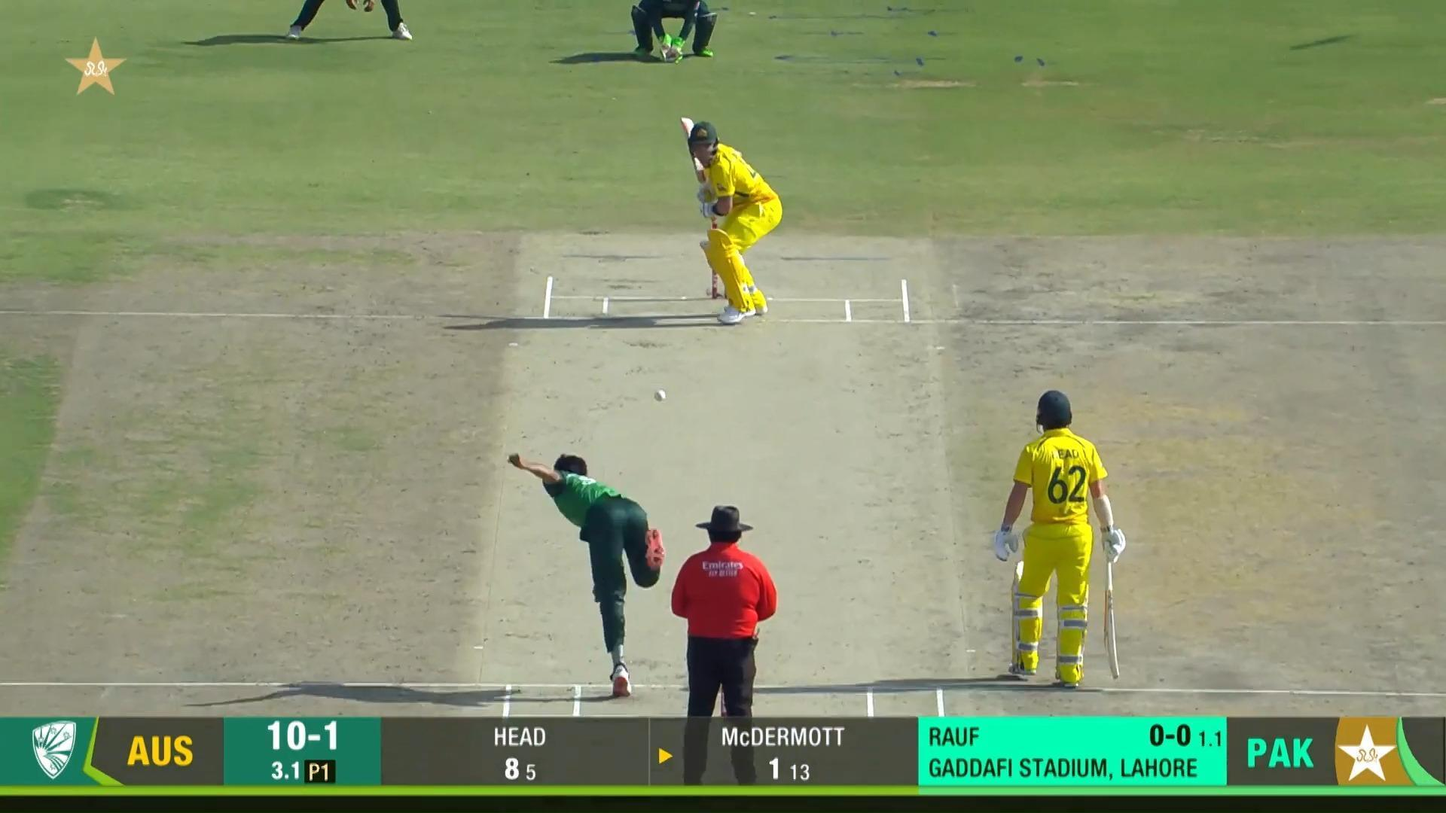BM 1: (680, 117, 782, 326)
BO: (505, 451, 666, 698)
